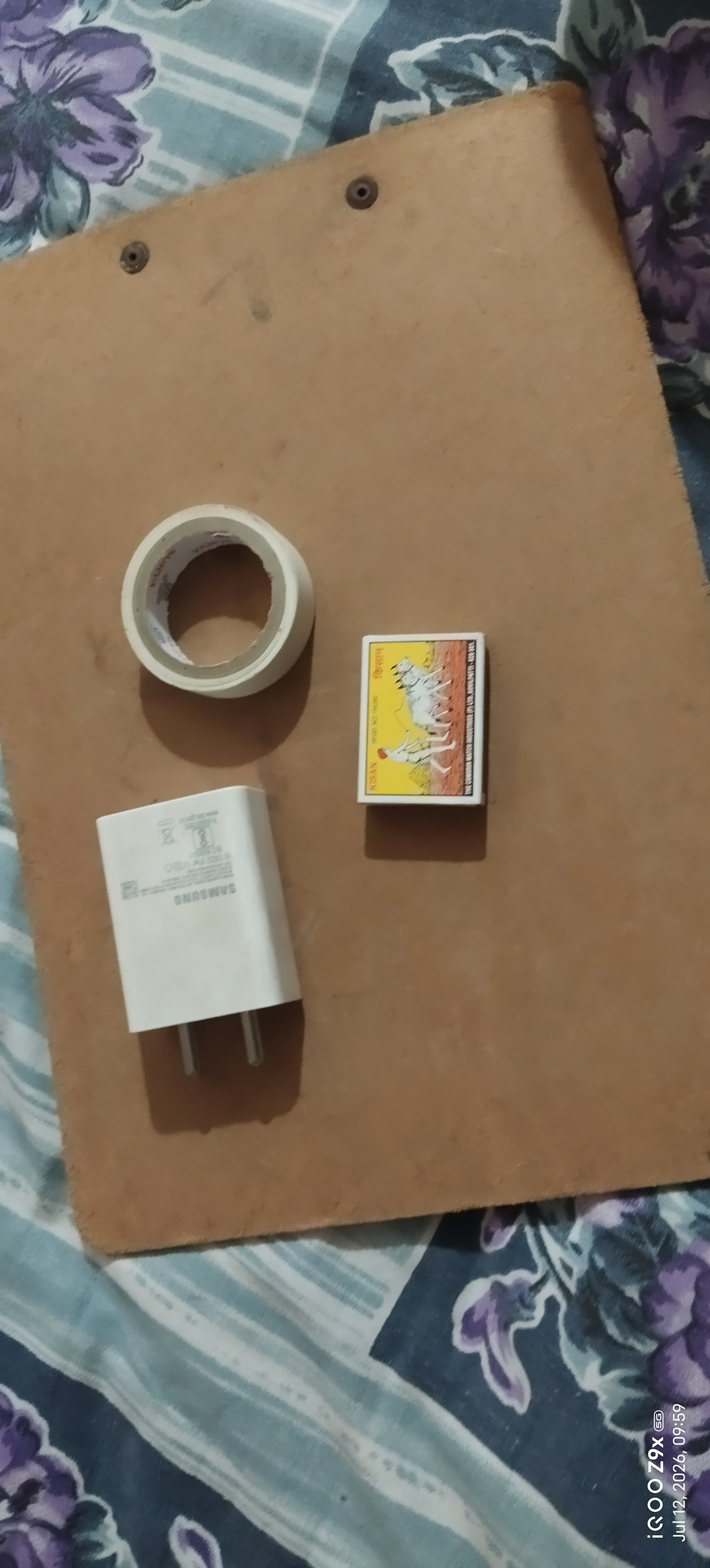charger: (88, 774, 312, 1092)
matchbox: (349, 616, 499, 834)
tape_roll: (116, 494, 321, 716)
